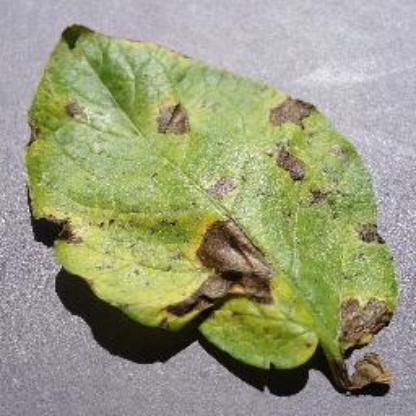Early-Blight: (24, 18, 398, 396)
